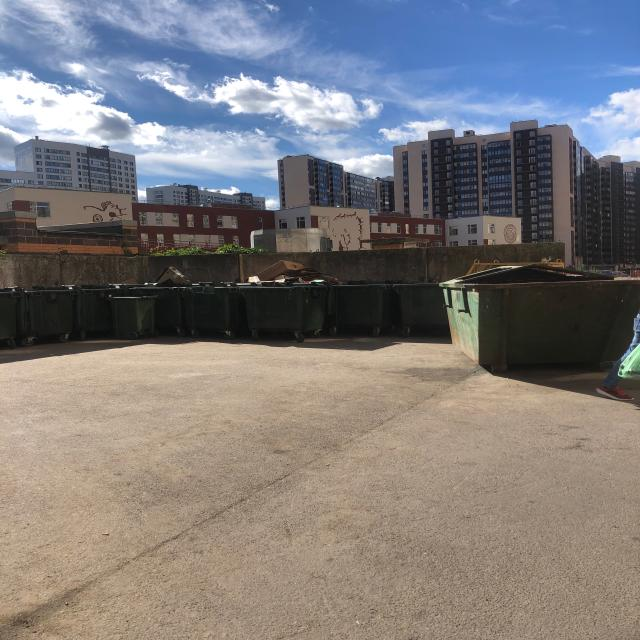bin: (0, 263, 640, 367)
plastic: (243, 257, 348, 283), (151, 262, 197, 284)
